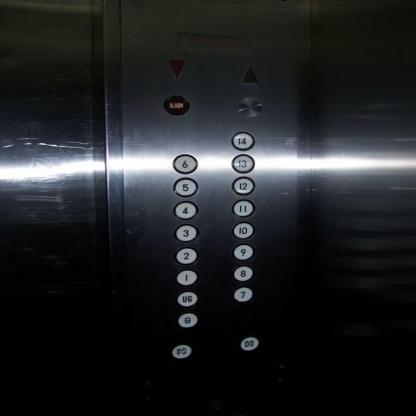1: (172, 266, 200, 286)
10: (228, 218, 256, 240)
11: (228, 197, 256, 218)
12: (228, 174, 256, 196)
13: (228, 152, 256, 174)
14: (228, 129, 256, 151)
2: (172, 245, 199, 266)
3: (171, 222, 198, 242)
4: (171, 198, 199, 221)
5: (170, 175, 198, 197)
6: (170, 152, 198, 174)
7: (230, 284, 254, 302)
8: (228, 261, 256, 283)
9: (228, 240, 256, 262)
DO: (237, 334, 259, 352)
G: (174, 309, 200, 329)
UG: (174, 288, 198, 307)
blur: (170, 341, 192, 360)
empty: (235, 95, 263, 117)
text_alarm bell: (161, 93, 190, 115)
